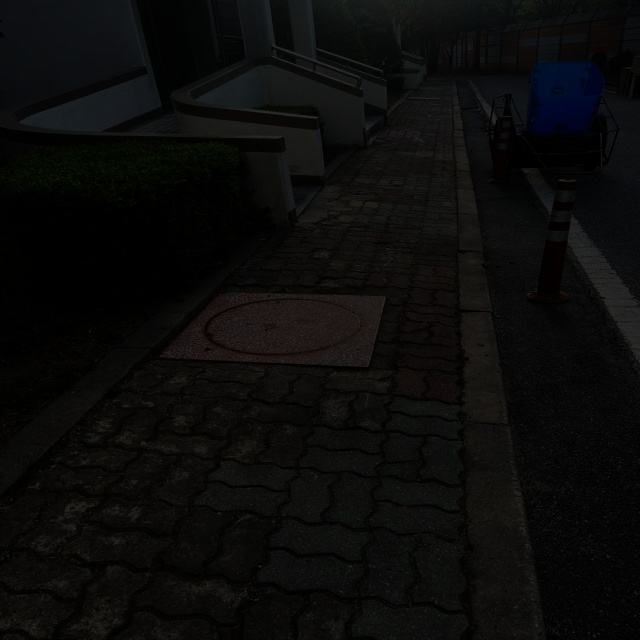Sewer Cover: (158, 290, 412, 370)
